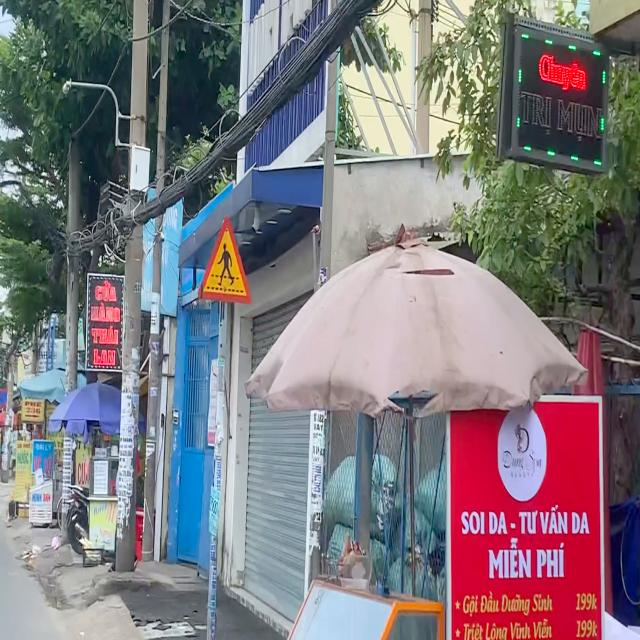Nguoi di bo cat ngang: (198, 215, 252, 304)
